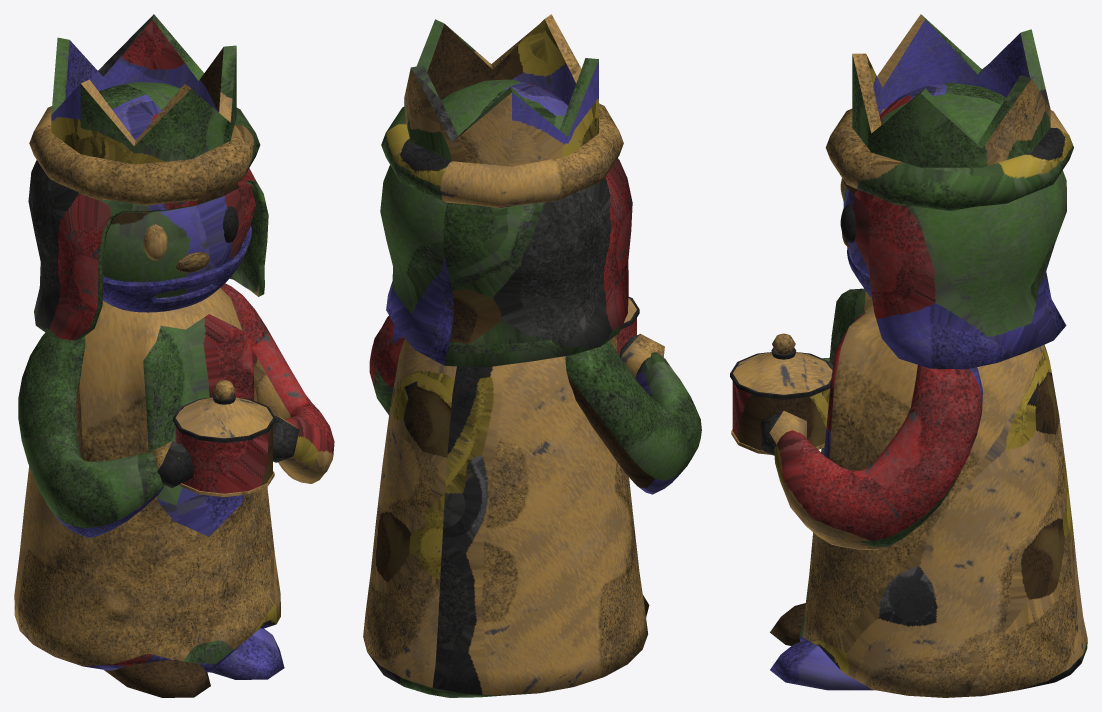
Rendered from Rey mago 2.fbx.
3 renders of one model, left to right at view 1: azimuth 30°, elevation 25°; view 2: azimuth 150°, elevation 25°; view 3: azimuth 270°, elevation 25°, orthographic. The views are drawn at different scales.
Visible parts, largest first — view 1: Circle.003, Cube.002, Circle.005, Sphere.005, Torus.001, Circle.006, Sphere.004, Sphere.025, Sphere.008, Icosphere.001, Sphere.006, Sphere.007; view 2: Circle.003, Sphere.005, Circle.005, Cube.002, Torus.001, Icosphere.001, Circle.006; view 3: Circle.003, Sphere.005, Cube.002, Circle.005, Torus.001, Circle.006, Sphere.025, Sphere.004, Icosphere.001, Sphere.006.
Boxes of the visible parts, box(x1,y1,x2,y2) form: Circle.003: box(14, 288, 280, 672); Cube.002: box(18, 283, 334, 537); Circle.005: box(51, 14, 236, 164); Sphere.005: box(28, 82, 268, 340); Torus.001: box(29, 106, 260, 205); Circle.006: box(173, 380, 275, 497); Sphere.004: box(102, 183, 255, 306); Sphere.025: box(104, 628, 284, 697); Sphere.008: box(102, 226, 251, 312); Icosphere.001: box(149, 415, 299, 487); Sphere.006: box(143, 206, 238, 260); Sphere.007: box(175, 251, 209, 273); Circle.003: box(363, 335, 647, 697); Sphere.005: box(380, 79, 632, 367); Circle.005: box(404, 14, 598, 166); Cube.002: box(369, 316, 701, 494); Torus.001: box(381, 103, 623, 208); Icosphere.001: box(619, 334, 664, 377); Circle.006: box(616, 296, 639, 355); Circle.003: box(799, 288, 1087, 697); Sphere.005: box(843, 82, 1066, 369); Cube.002: box(774, 357, 982, 550); Circle.005: box(852, 14, 1050, 167); Torus.001: box(825, 108, 1073, 210); Circle.006: box(730, 333, 832, 454); Sphere.025: box(770, 603, 874, 690); Sphere.004: box(843, 186, 869, 275); Icosphere.001: box(760, 410, 806, 455); Sphere.006: box(840, 178, 856, 242).
Size of the model in its own units: 240 by 486 by 264.
